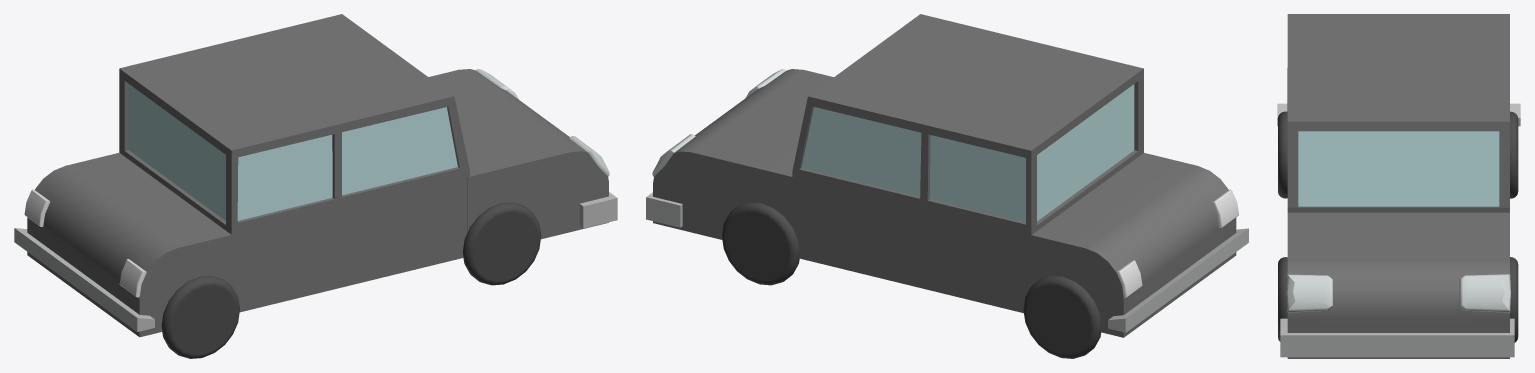
File: black parked car.fbx
The picture shows the model from 3 angles, left to right: view 1: azimuth 30°, elevation 25°; view 2: azimuth 150°, elevation 25°; view 3: azimuth 270°, elevation 25°; orthographic projection.
Parts seen in each view (by area): view 1: front_of_car2; view 2: front_of_car2; view 3: front_of_car2.
Boxes of the visible parts, x1,y1,x2,y2 form: front_of_car2: (14, 14, 617, 358); front_of_car2: (646, 14, 1248, 358); front_of_car2: (1277, 14, 1520, 358).
Size of the model in its own units: 6.3 by 2.48 by 2.78.
